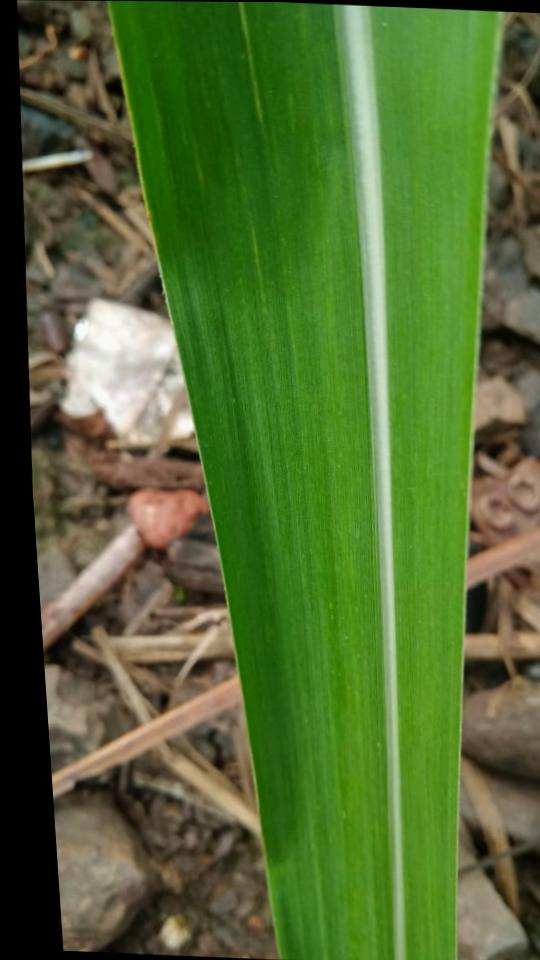Healthy: (108, 1, 504, 960)
